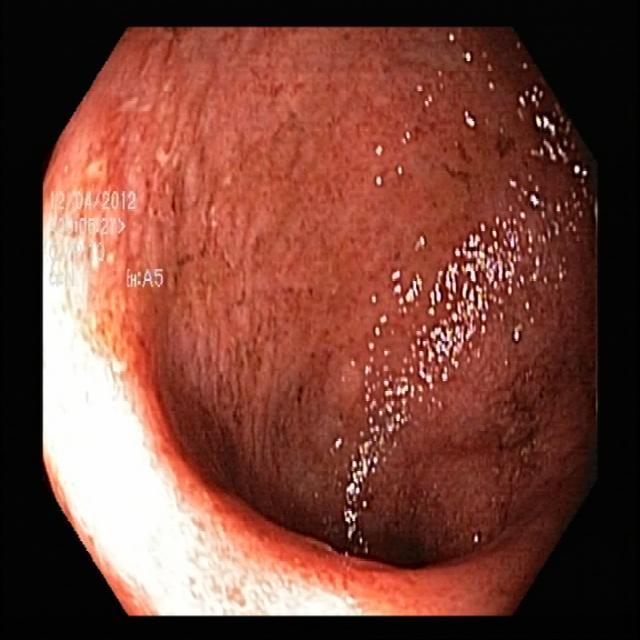ulcerative-colities: (434, 268, 601, 556), (454, 27, 586, 221)
